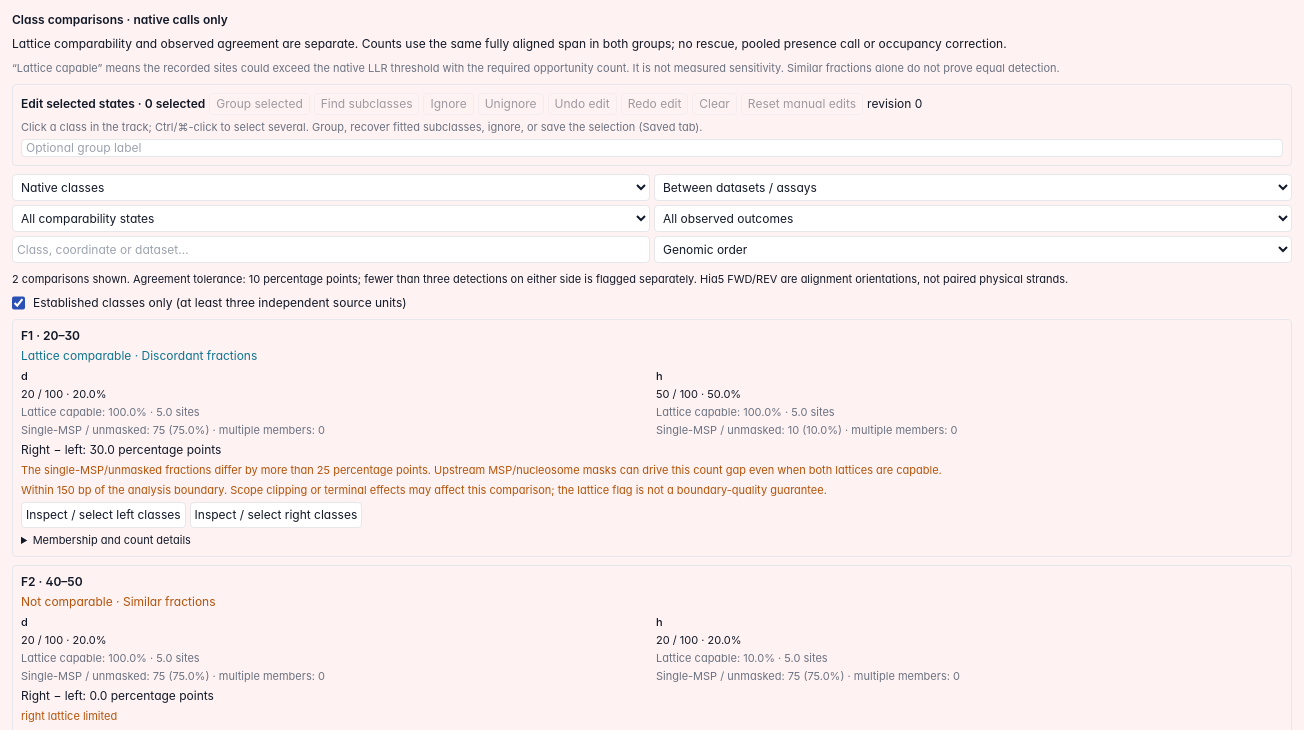
it: selects coarse children in one dataset through the shared manual-edit selection
Step 1. Select "Coarser ANY-child events" in the dropdown named "Comparison resolution" → (331, 188), box [12, 174, 650, 201]
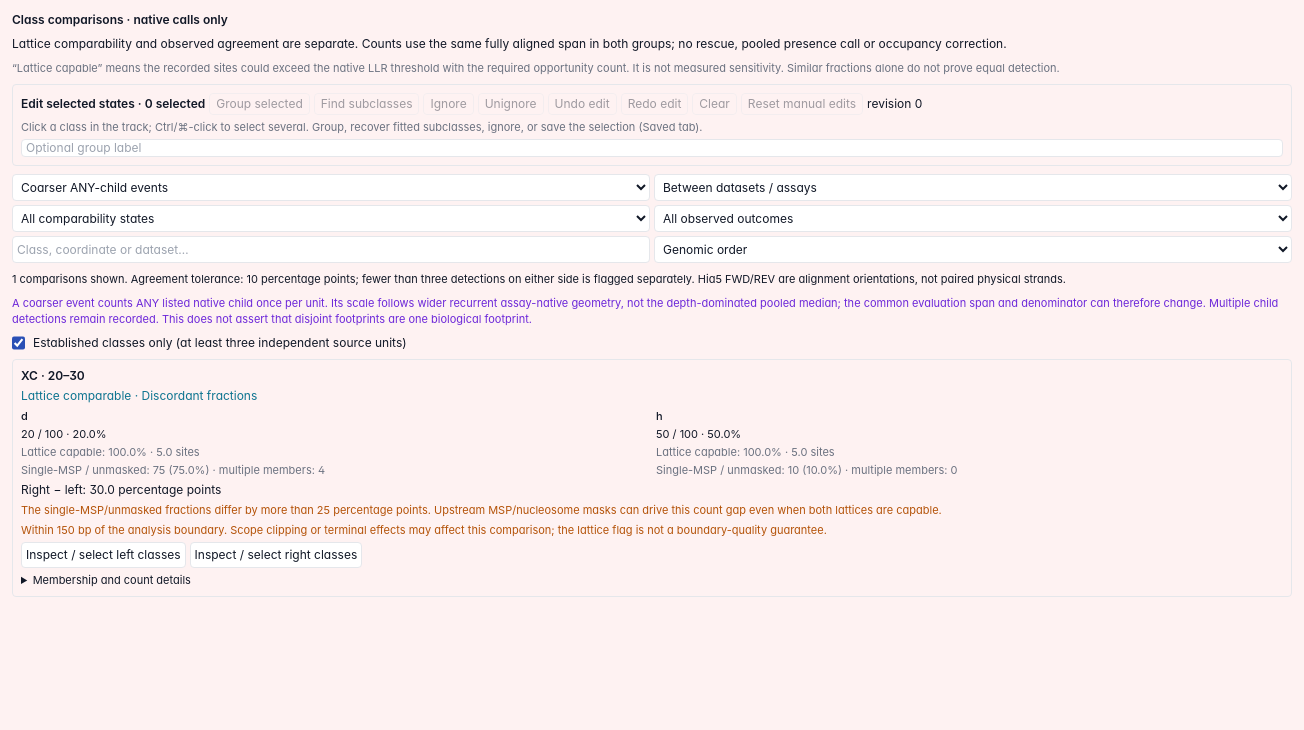
Now the text "multiple members: 4" is shown, box [21, 463, 325, 477]
Step 2. Click the button "Inspect / select left classes" → (103, 555), box [21, 542, 186, 568]
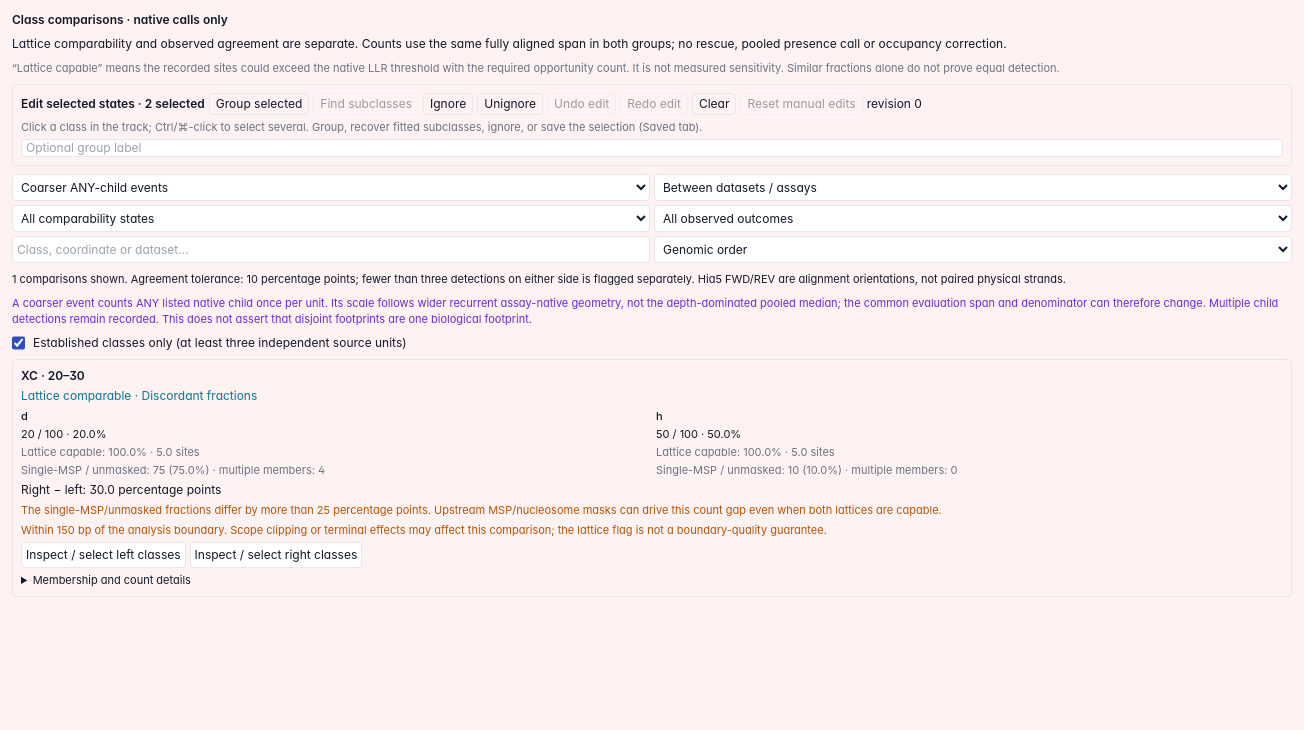
Now the button "Group selected" is enabled, box [209, 93, 309, 115]
